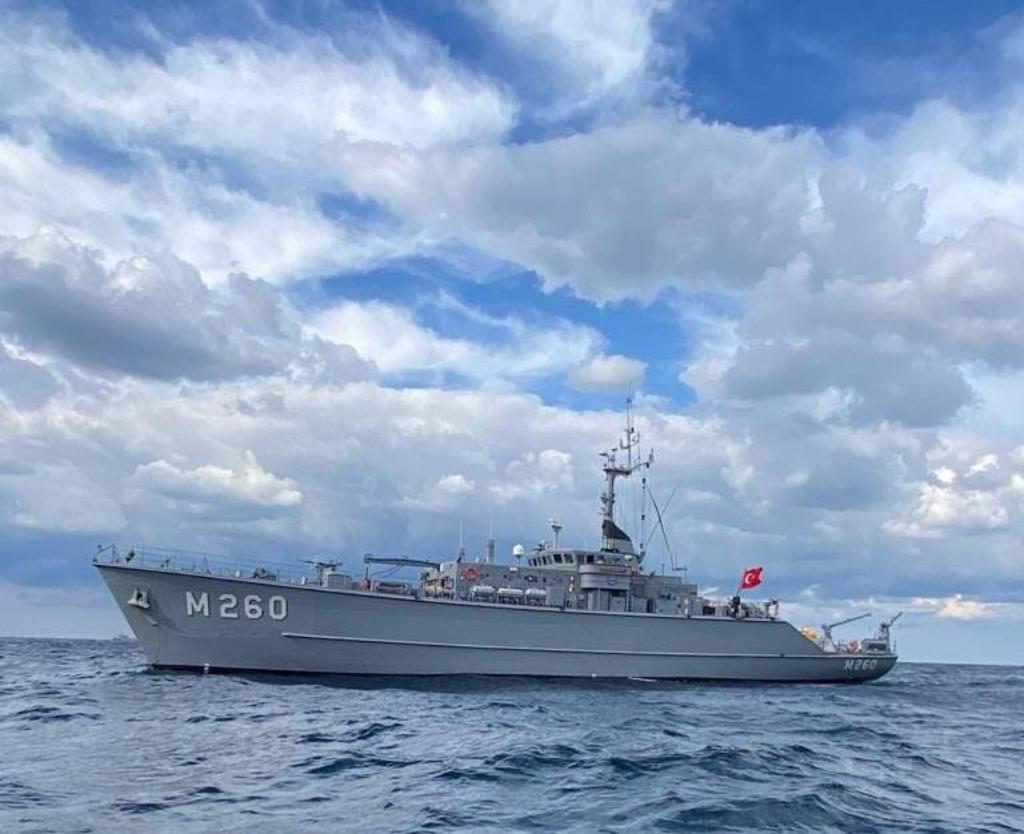Warship: (82, 373, 908, 689)
